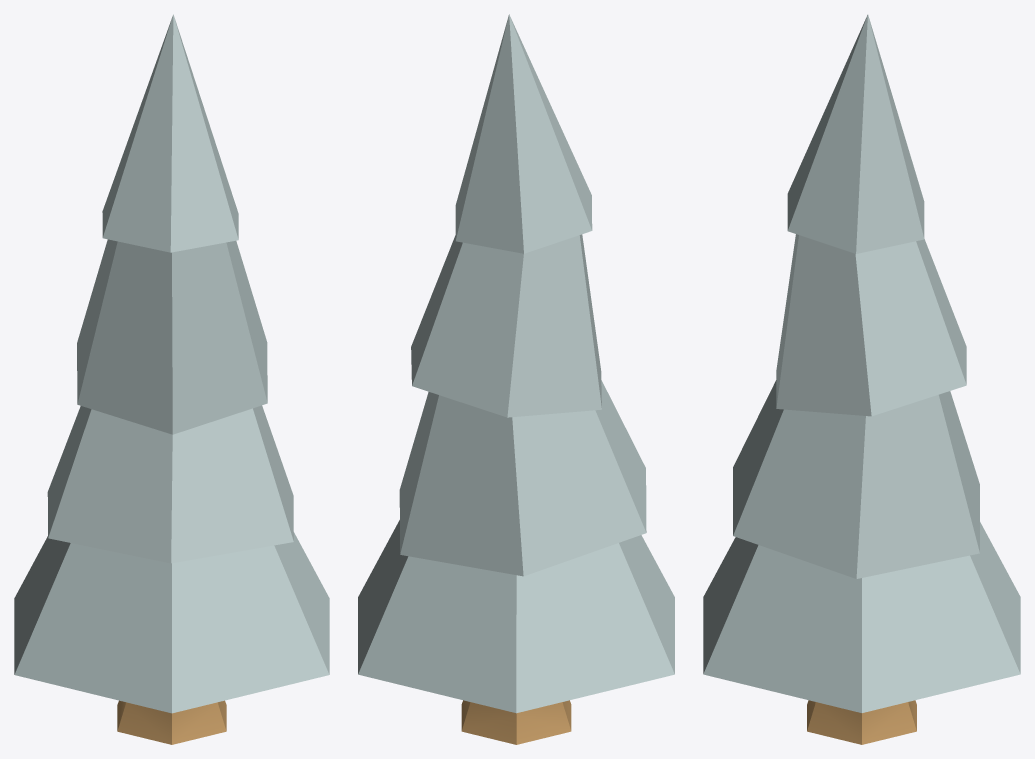
Rendered from treePineSnowed.fbx.
The picture shows the model from 3 angles, left to right: view 1: azimuth 30°, elevation 25°; view 2: azimuth 150°, elevation 25°; view 3: azimuth 270°, elevation 25°; orthographic projection.
Visible parts, largest first — view 1: treePineSnowed; view 2: treePineSnowed; view 3: treePineSnowed.
Boxes of the visible parts, x1,y1,x2,y2 form: treePineSnowed: (14,14,329,744); treePineSnowed: (358,14,674,744); treePineSnowed: (703,14,1020,744).
Bounding box in the file's own units: 7.52 × 15.98 × 6.51.
